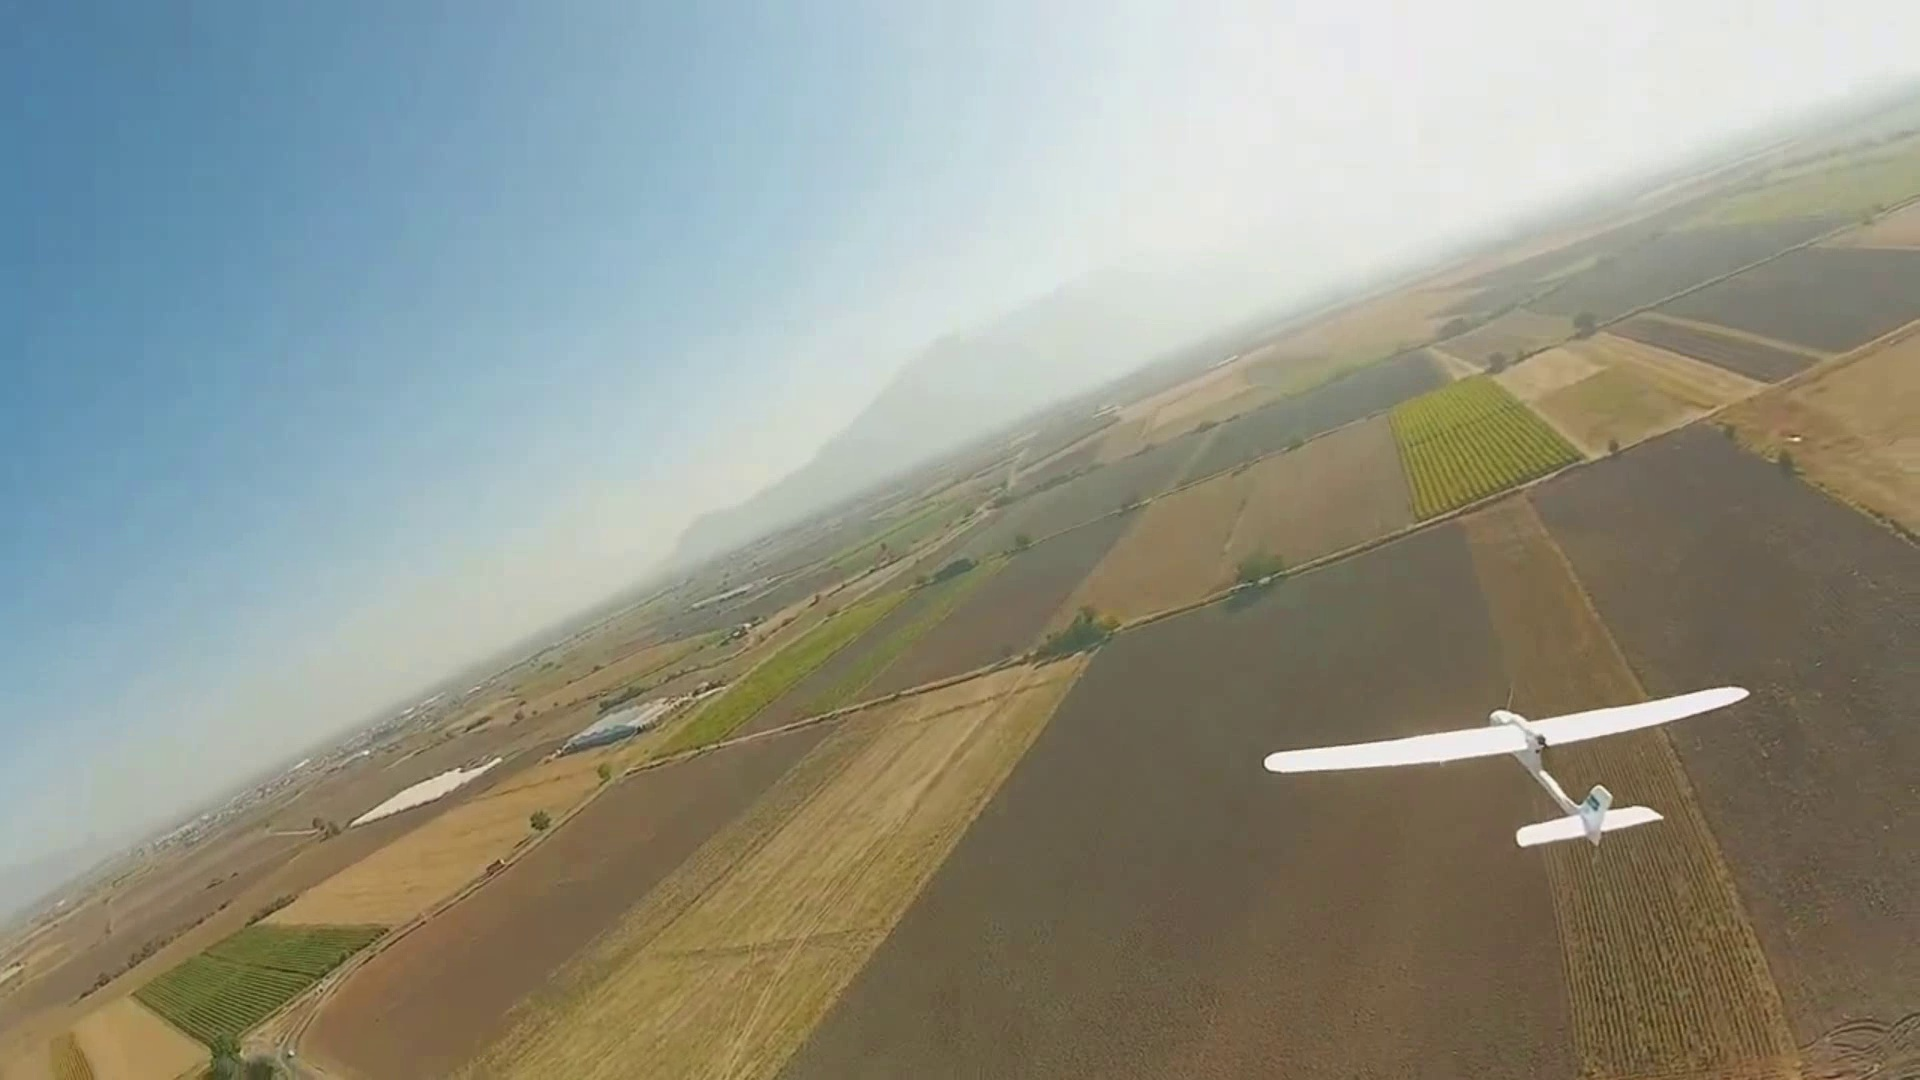airplane: (31, 66, 1920, 1068)
